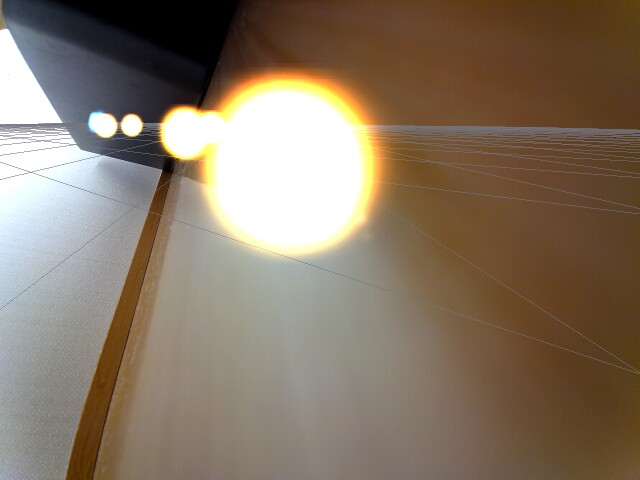firebig: (211, 56, 376, 265)
